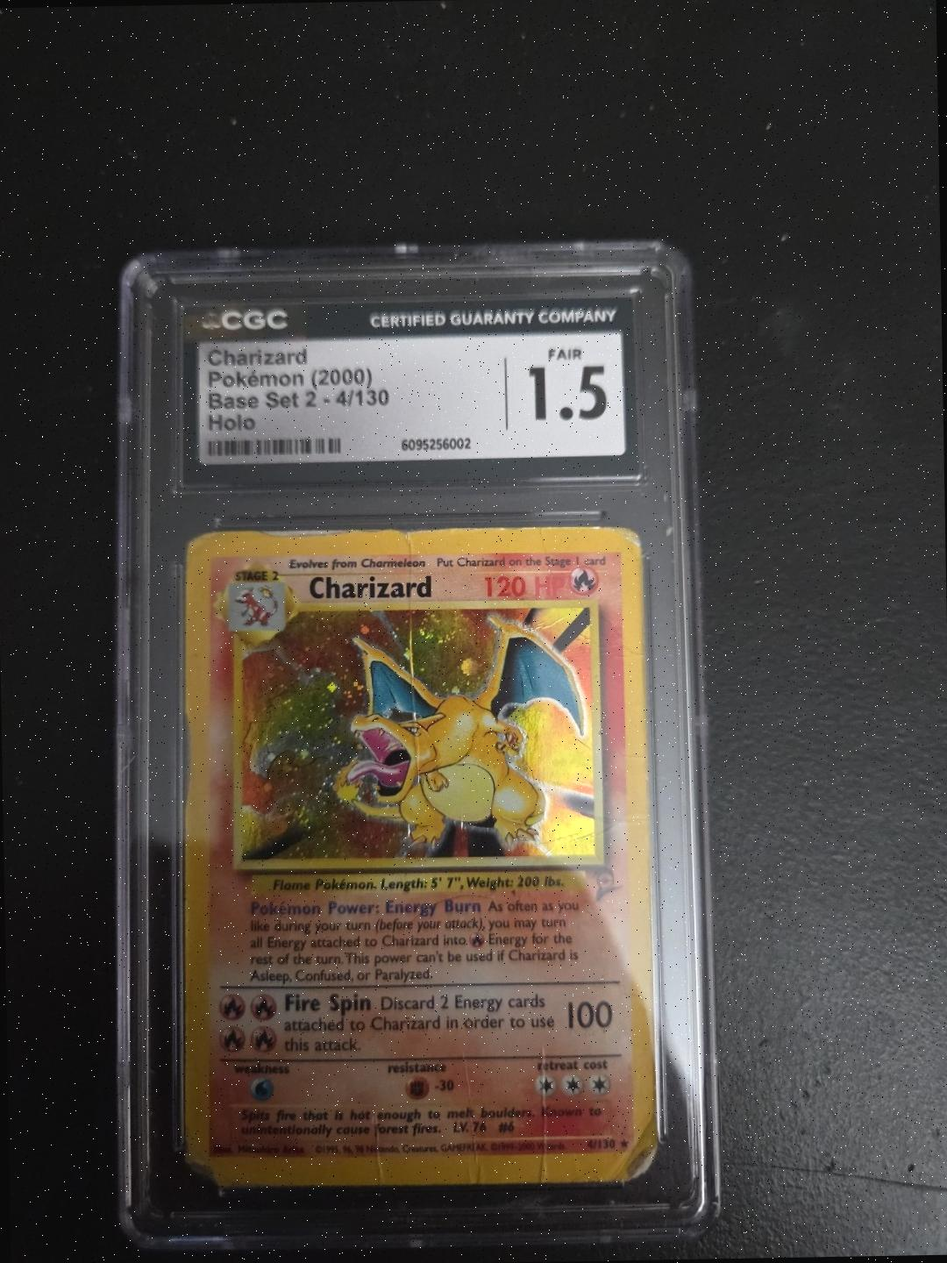card-2UtV: (184, 525, 660, 1189)
